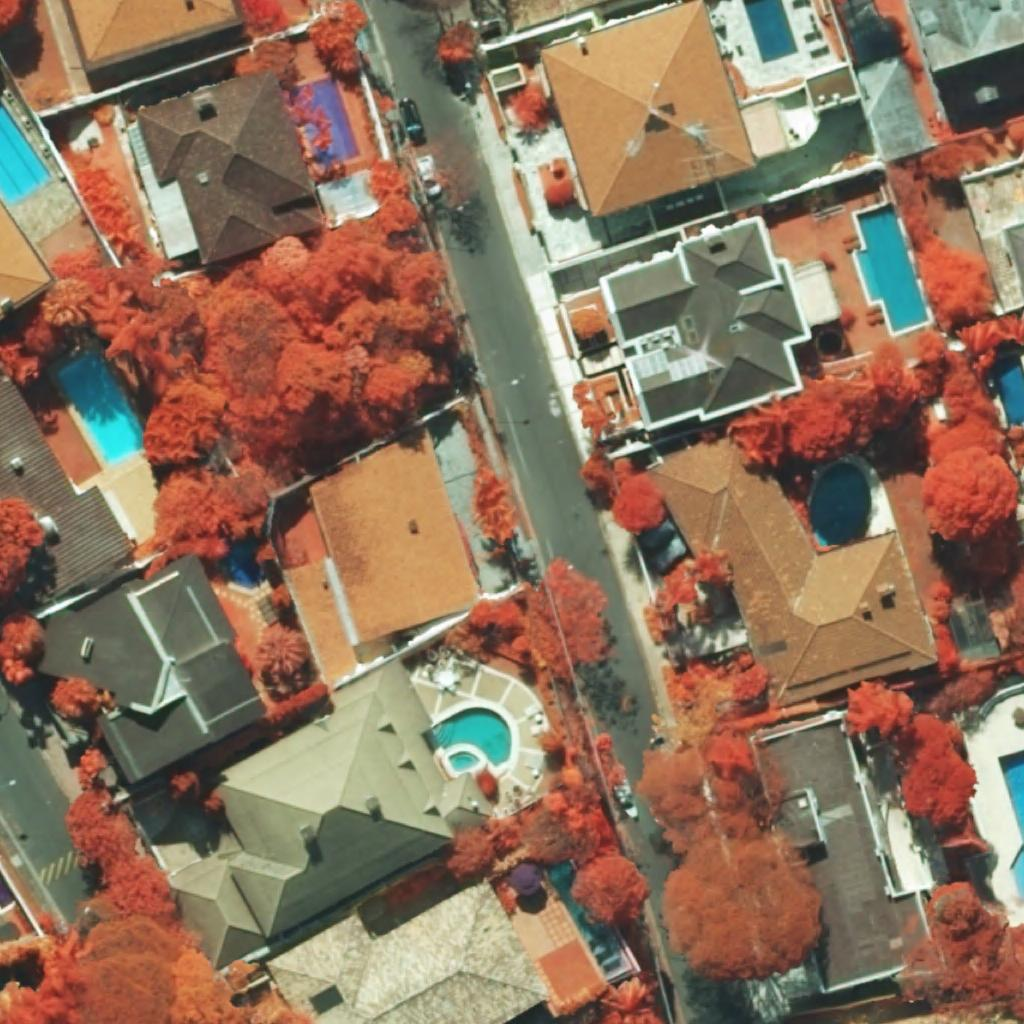pool: (55, 351, 144, 466), (856, 203, 930, 332), (810, 462, 870, 546), (431, 707, 512, 767), (312, 77, 361, 165), (997, 749, 1024, 904), (548, 859, 595, 942), (743, 0, 798, 63), (992, 354, 1024, 424), (227, 544, 261, 590), (448, 751, 480, 773)
